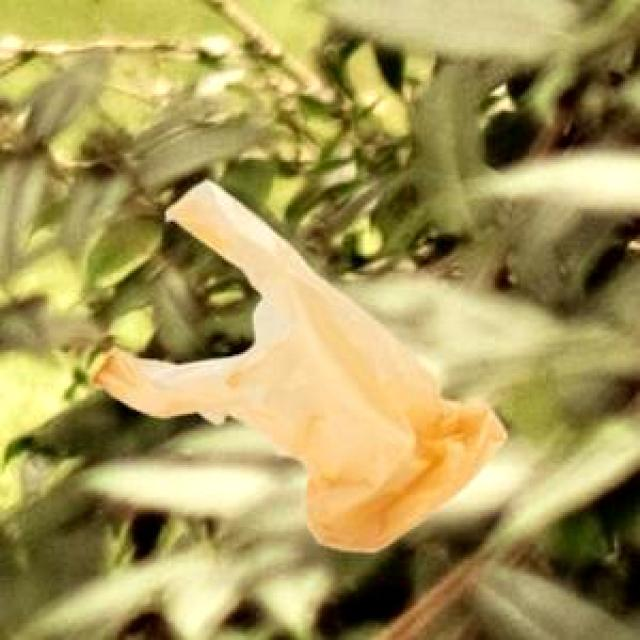Plastic_Bag: (89, 178, 502, 549)
